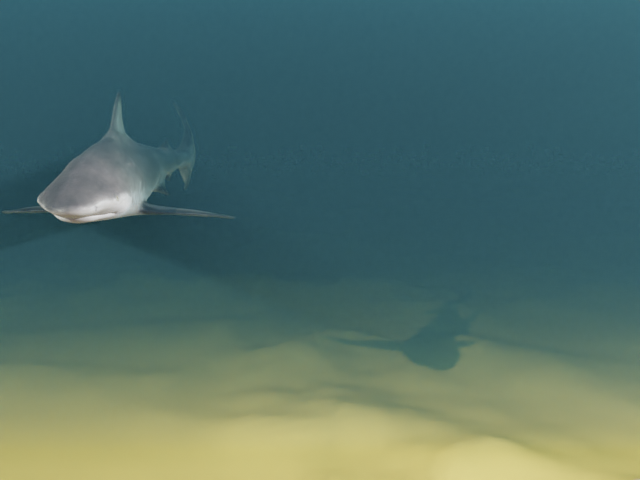Carribean Shark.001: (1, 91, 235, 223)
